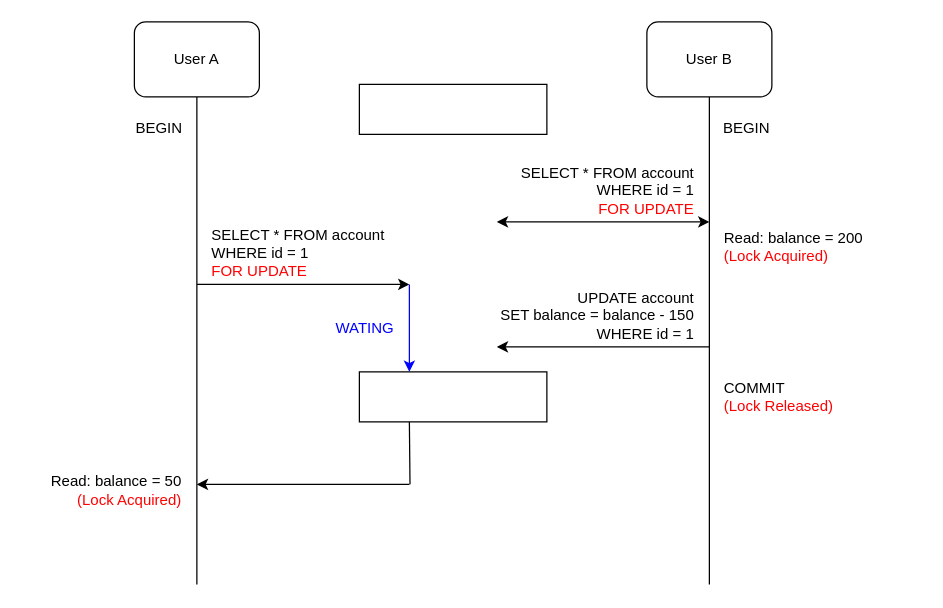
This 943x608 diagram has some shape labels left out. The centre of each missing label's shape, as x and y in pixels:
"id = 1, balance = 200" belongs at (452,108).
"id = 1, balance = 50" belongs at (452,396).
